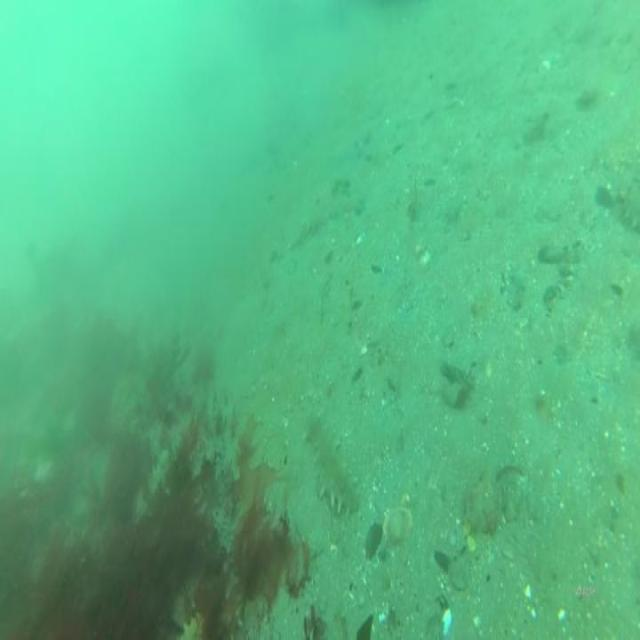holothurian: (301, 414, 361, 520)
waterweeds: (11, 423, 309, 640)
